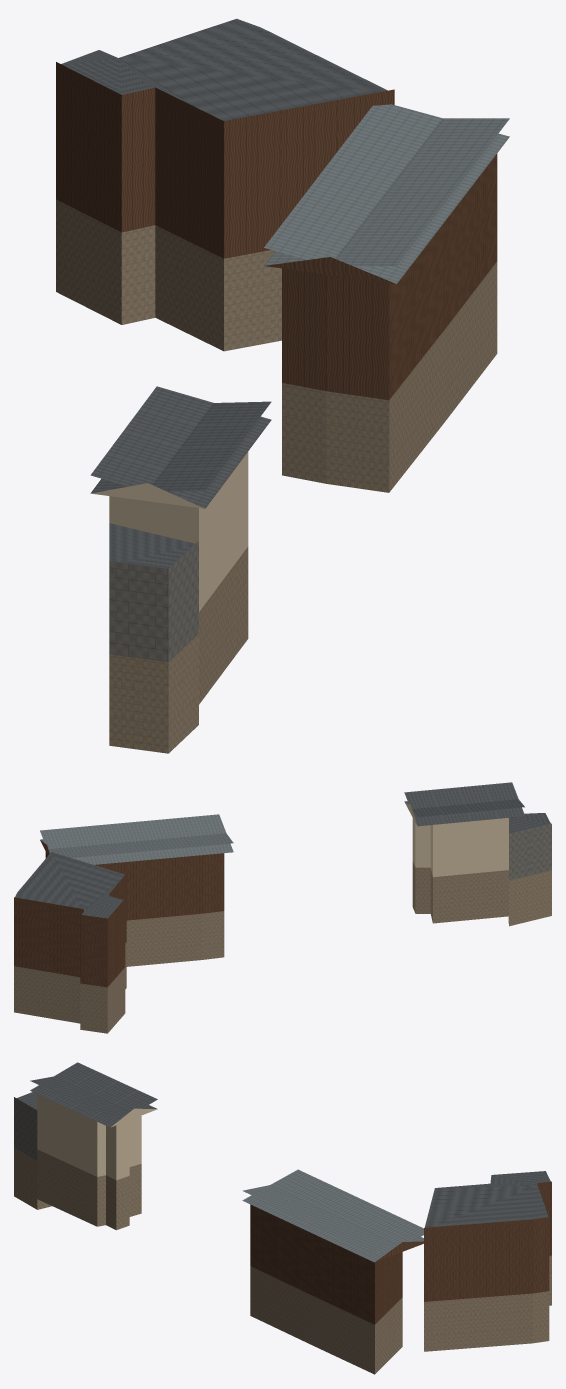
Rendered from bld_c37_-12_544.gltf.
The picture shows the model from 3 angles, top to bottom: view 1: azimuth 30°, elevation 25°; view 2: azimuth 150°, elevation 25°; view 3: azimuth 270°, elevation 25°; orthographic projection. The views are drawn at different scales.
Visible parts, largest first — view 1: bld_c37_-12_544; view 2: bld_c37_-12_544; view 3: bld_c37_-12_544.
Part boxes in pixels (left/top/right/bottom): bld_c37_-12_544: left=56, top=18, right=509, bottom=753; bld_c37_-12_544: left=14, top=782, right=551, bottom=1033; bld_c37_-12_544: left=14, top=1062, right=551, bottom=1374.
Bounding box in the file's own units: 41.08 × 13.6 × 49.89.
Materials: 9 (9 with a texture image).
